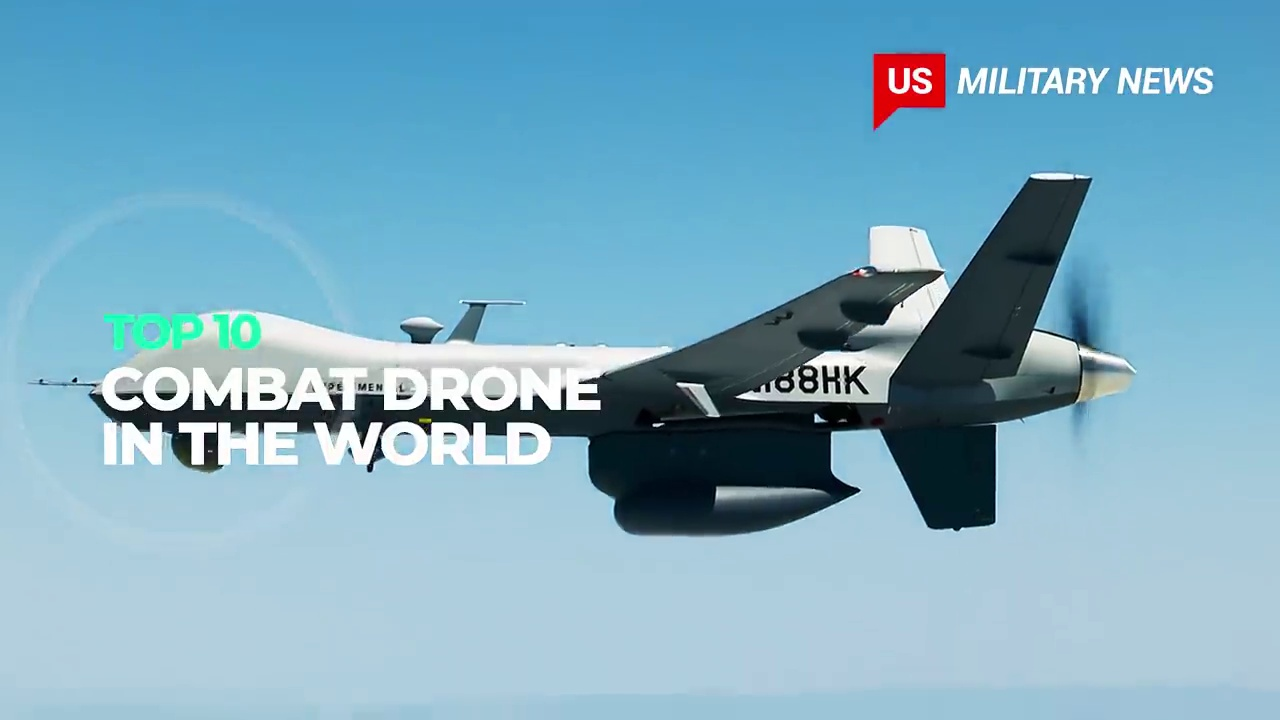uav: (42, 169, 1142, 546)
